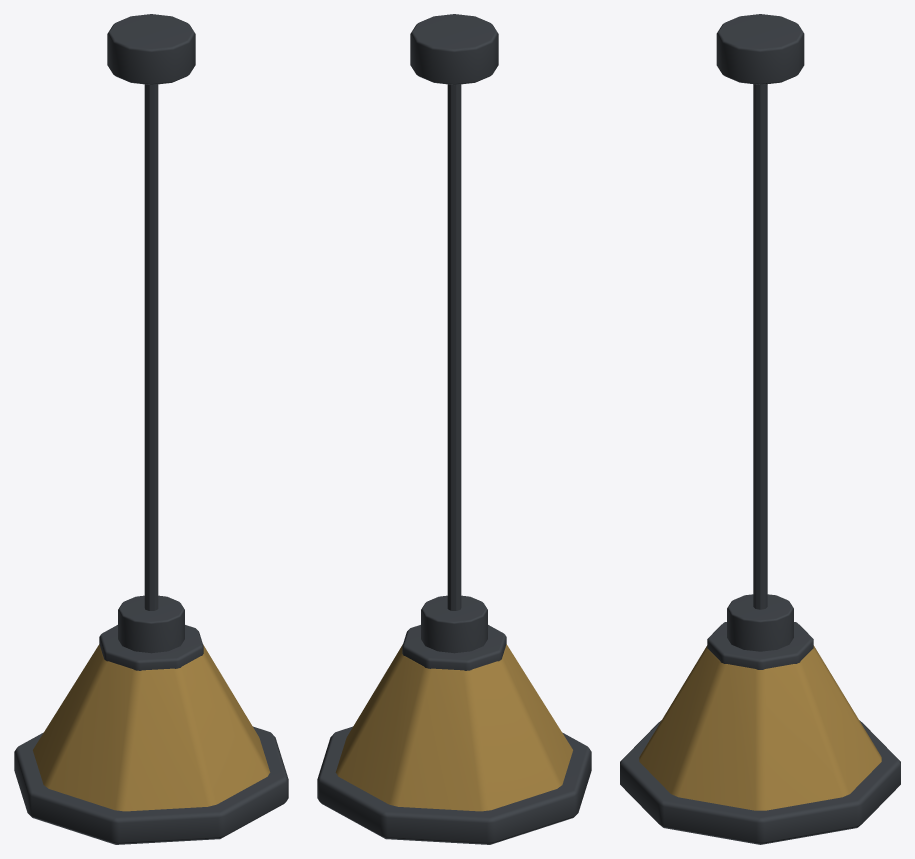
File: pendant_lamp_small.fbx
3 renders of one model, left to right at view 1: azimuth 30°, elevation 25°; view 2: azimuth 150°, elevation 25°; view 3: azimuth 270°, elevation 25°, orthographic.
Visible parts, largest first — view 1: pendant_lamp_small; view 2: pendant_lamp_small; view 3: pendant_lamp_small.
Boxes of the visible parts, x1,y1,x2,y2 form: pendant_lamp_small: [14, 14, 288, 844]; pendant_lamp_small: [317, 14, 591, 844]; pendant_lamp_small: [620, 14, 900, 844].
Size of the model in its own units: 0.2883 by 0.8872 by 0.2883.
